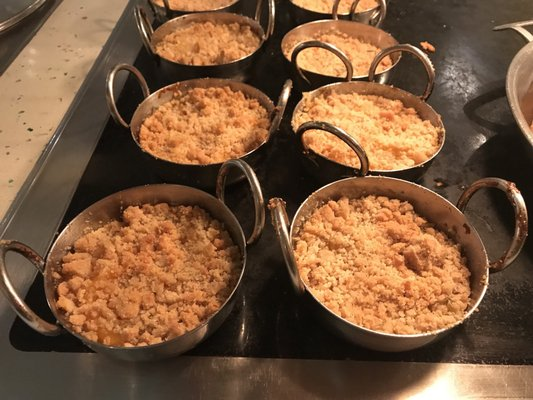sushi: (2, 182, 248, 364), (272, 177, 489, 353), (456, 177, 530, 273), (289, 41, 354, 91)
